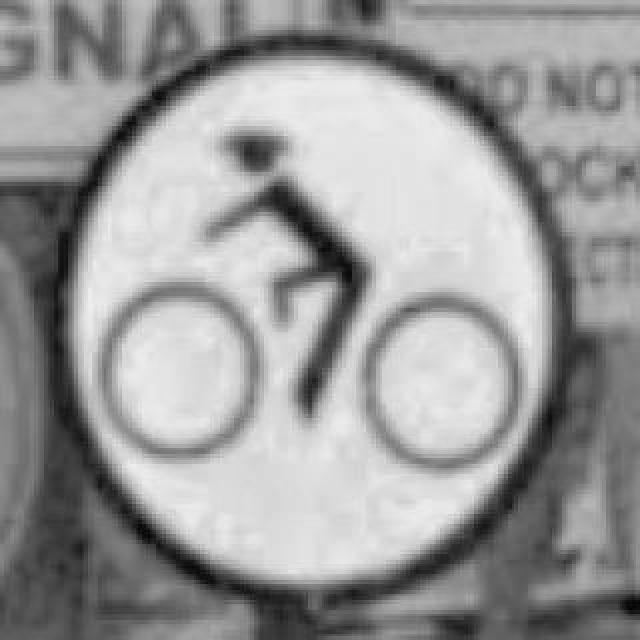bike lane: (60, 26, 572, 590)
